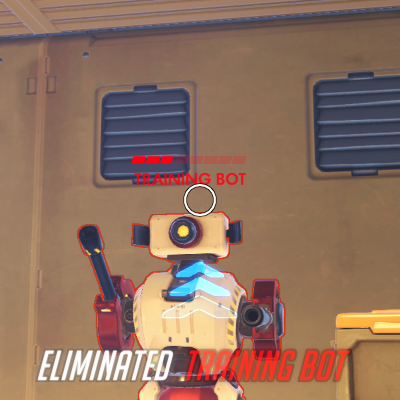hpbar: (131, 156, 247, 164)
